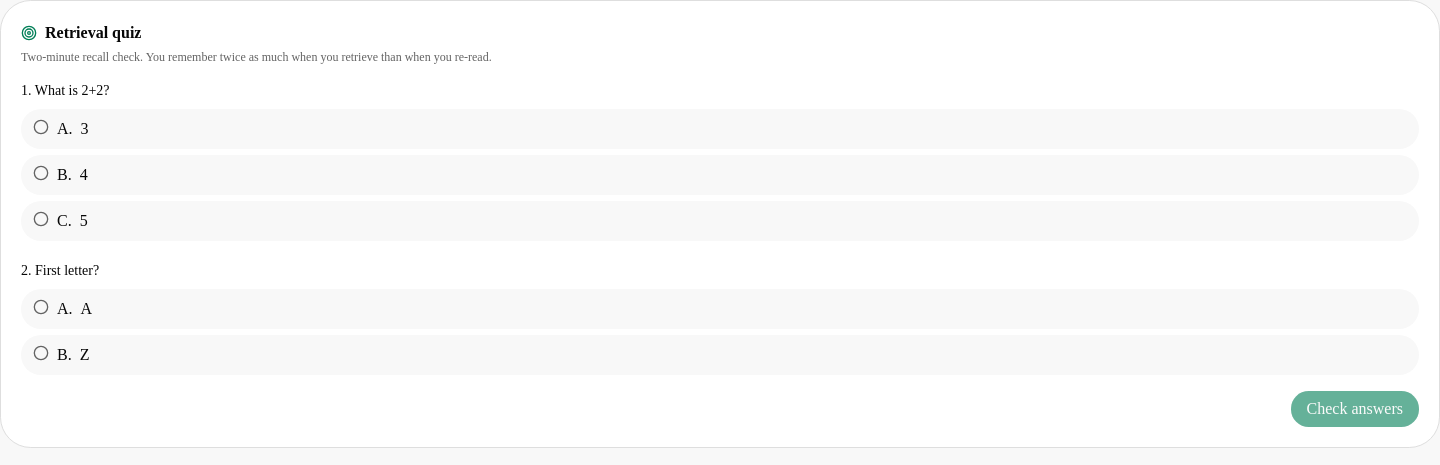
Test: RetrievalQuizInline › disables the grade button until every question is answered, then submits
Expected: the button "Check answers" is disabled, [1291,391,1419,427]
Step 1. Click the radio button labelled "A.3" → {"x": 41, "y": 127}, box [21,109,1419,149]
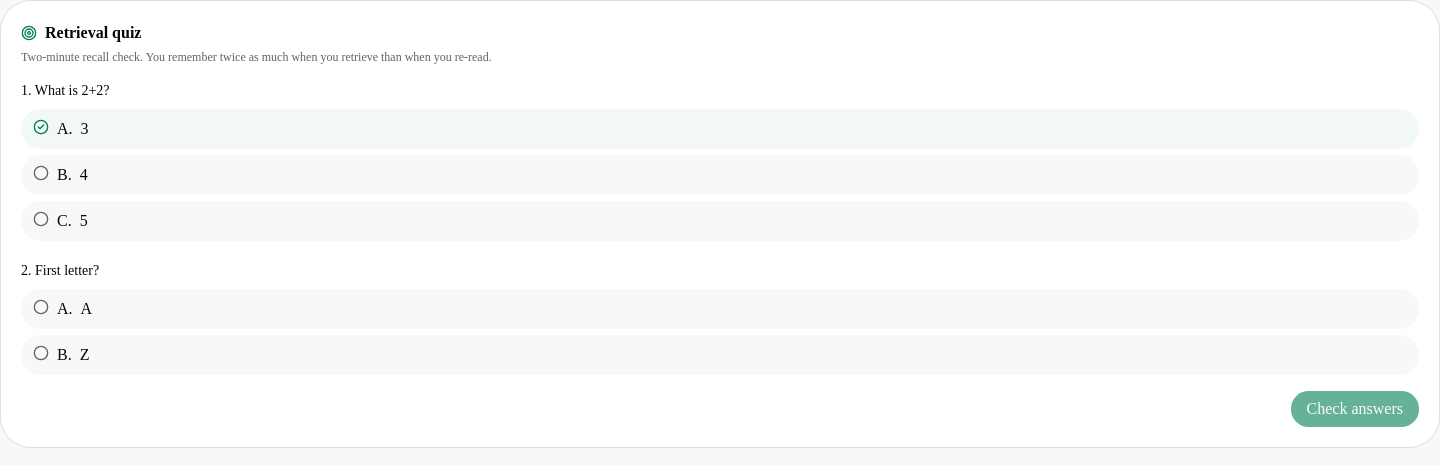
Expected: the button "Check answers" is disabled, [1291,391,1419,427]
# Answer q2 (second radiogroup, first radio)
Step 2. Click the radio button labelled "A.A" → {"x": 41, "y": 307}, box [21,289,1419,329]
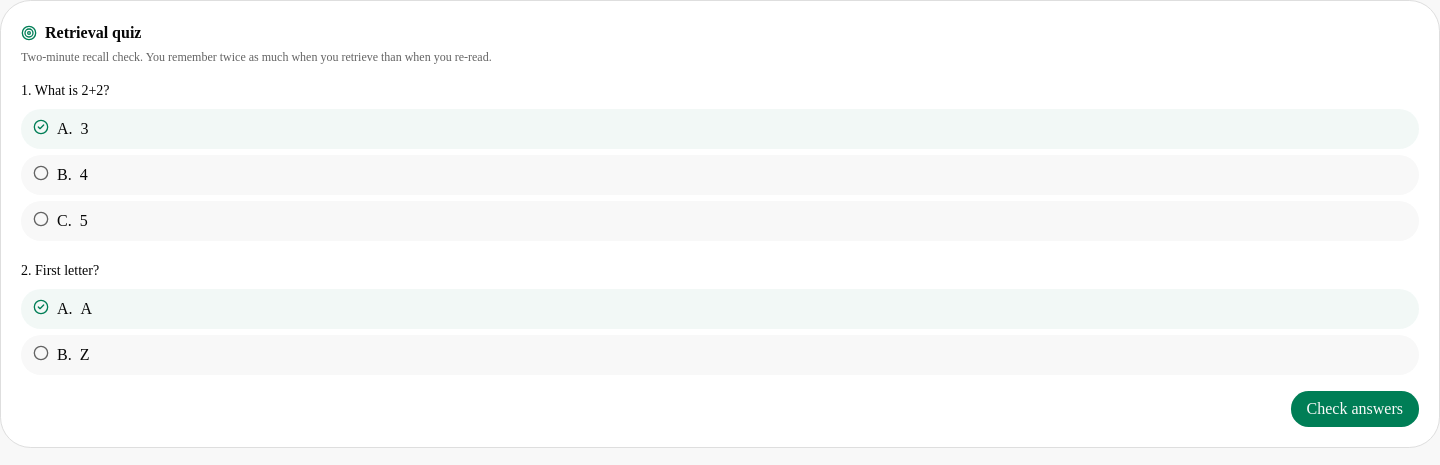
Expected: the button "Check answers" is enabled
Step 3. Click the button "Check answers" → {"x": 1355, "y": 409}, box [1291,391,1419,427]
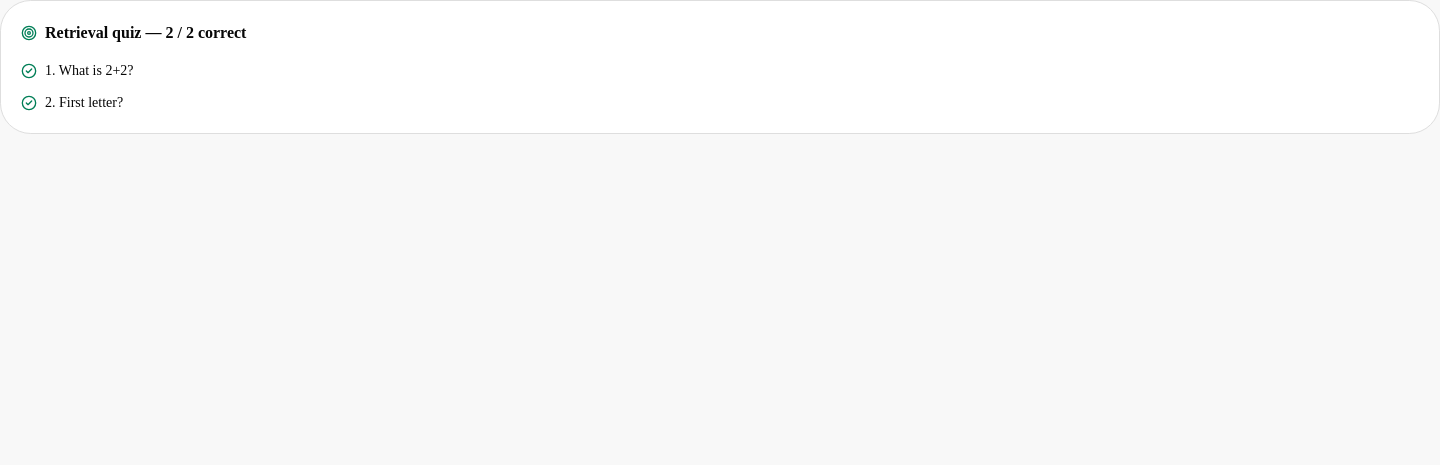
Expected: the heading "Retrieval quiz — 2 / 2 correct" is shown, [45,21,246,45]
